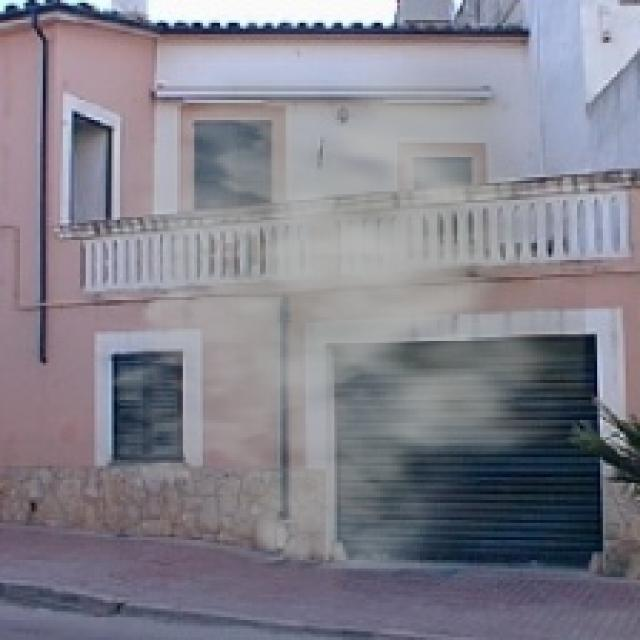Smoke: (46, 37, 586, 569)
